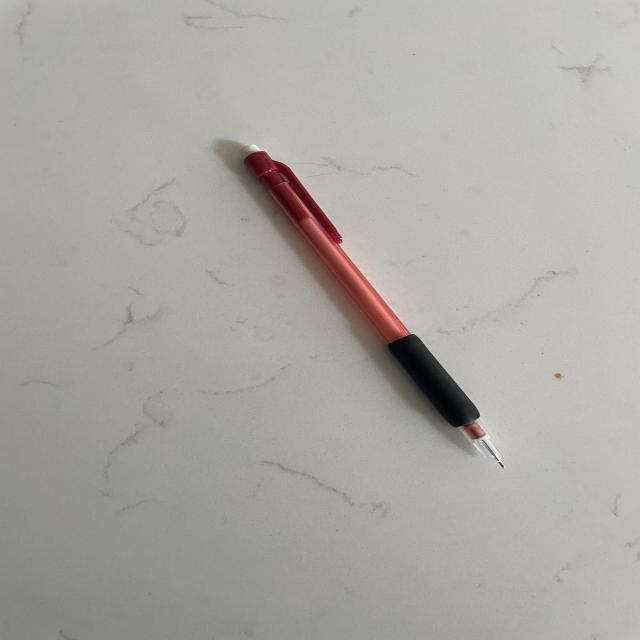mechanical-pencils: (222, 131, 520, 486)
